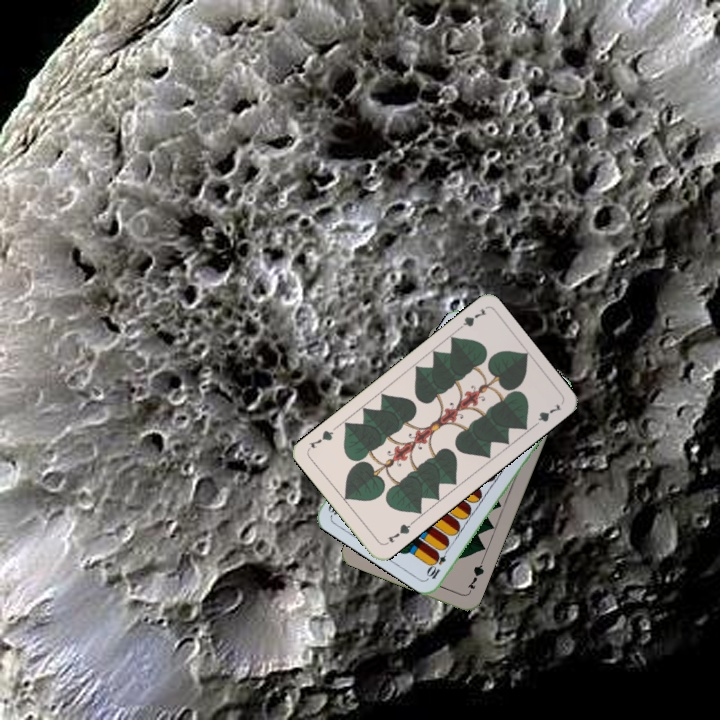E10: (424, 543, 452, 582)
G7: (452, 304, 489, 334), (381, 518, 415, 548), (463, 557, 487, 596)
